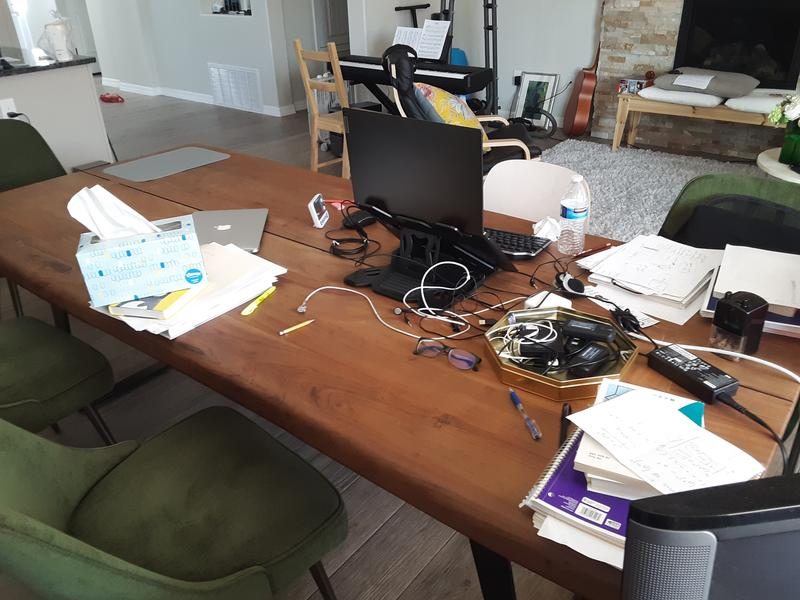glasses: (410, 333, 483, 374)
